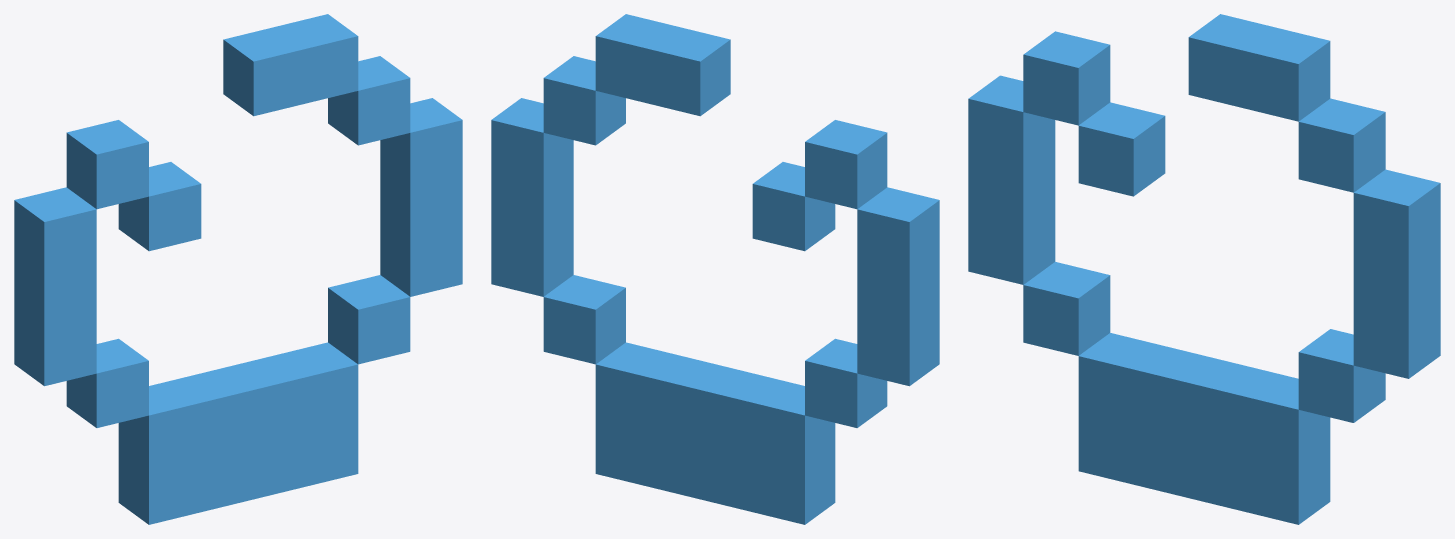
Rendered from Money-Belt-Blue.vox.obj.
3 renders of one model, left to right at view 1: azimuth 30°, elevation 25°; view 2: azimuth 150°, elevation 25°; view 3: azimuth 330°, elevation 25°, orthographic. The views are drawn at different scales.
Size of the model in its own units: 0.8 by 0.8 by 0.1.
Materials: 1 (1 with a texture image).
